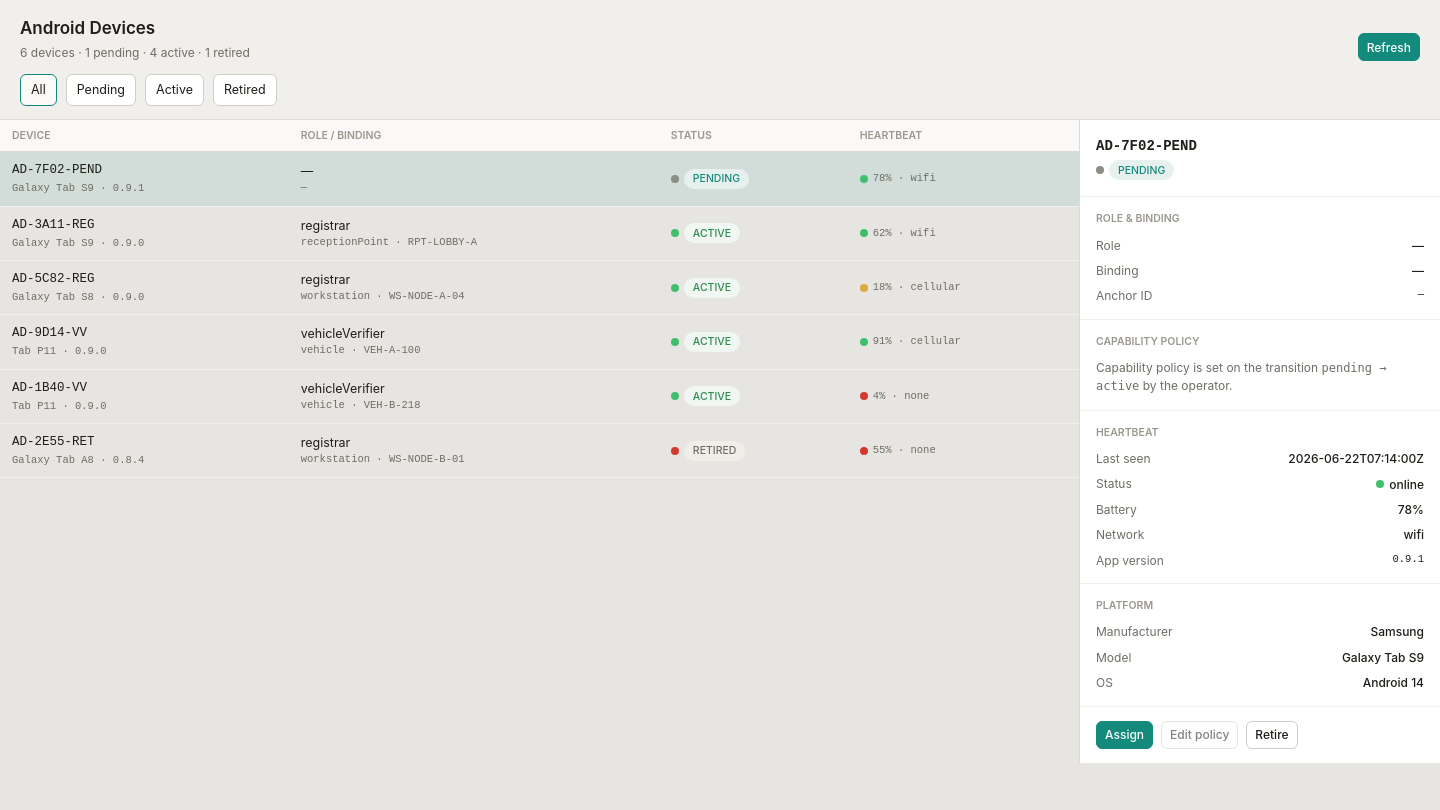
Test: AndroidDevicesScreen integration: assign + retire flows mutate snapshot › Assign on pending device transitions to active + binding + default empty policy
This screenshot has width=1440, height=810.
Expected: the button "AD-7F02-PEND Galaxy Tab S9 · 0.9.1" is shown, [12,161,277,197]
Click the button "Assign": coordinates (1125, 735) [1096,721,1153,749]
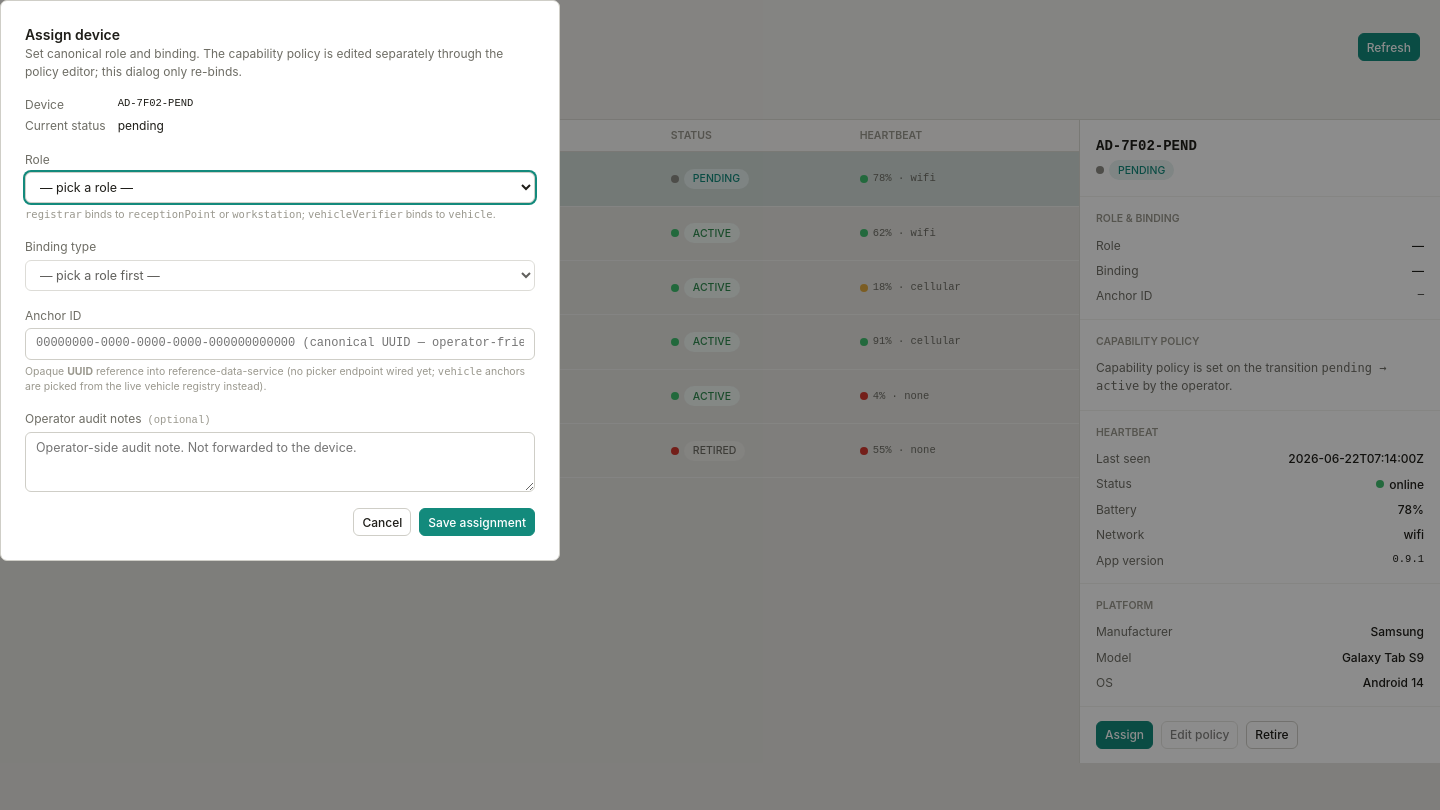
Fill the form.
Select "Registrar (registrar)" in the dropdown labelled "Role": coordinates (280, 188) [25,172,535,203]
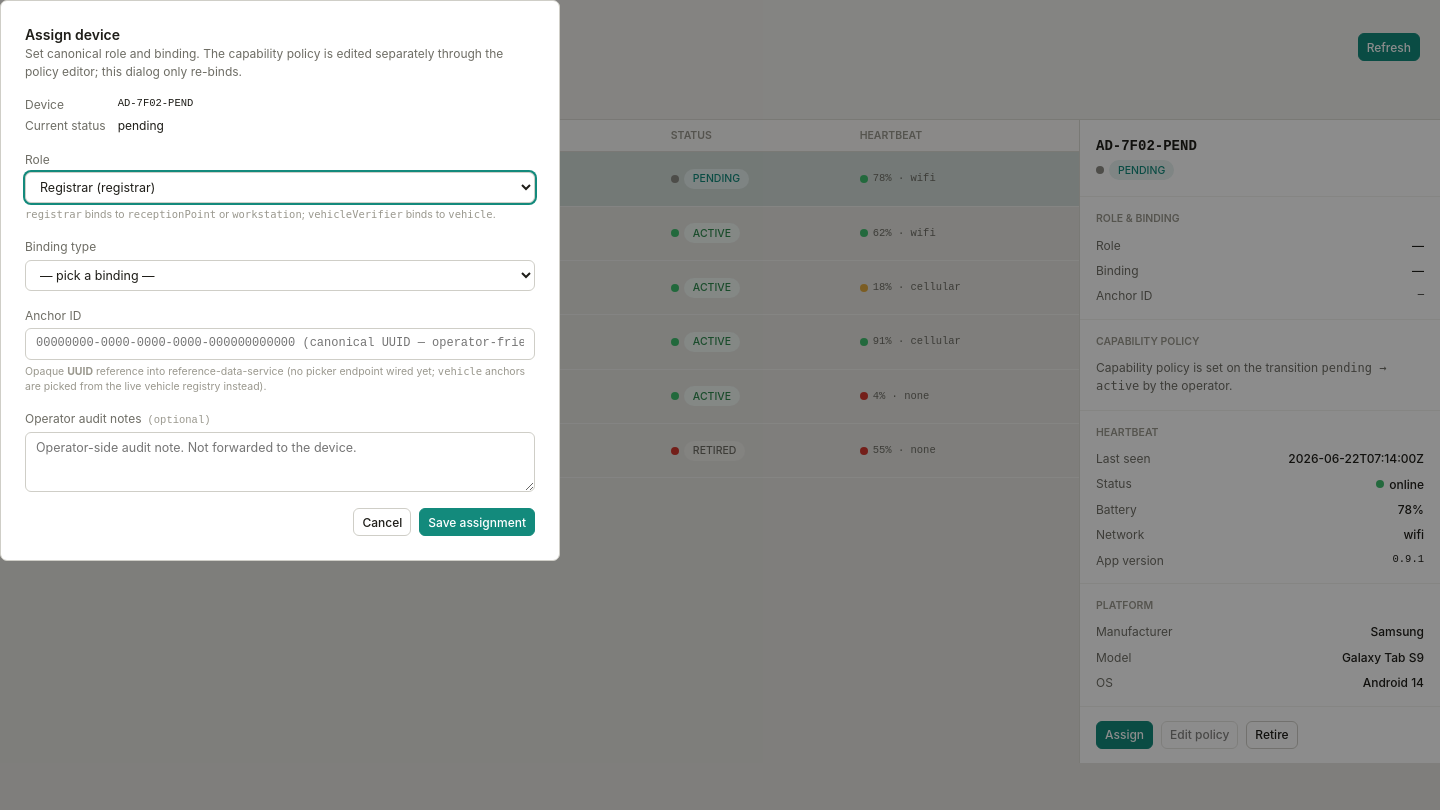
Select "Reception point (receptionPoint)" in the dropdown labelled "Binding type": coordinates (280, 275) [25,260,535,291]
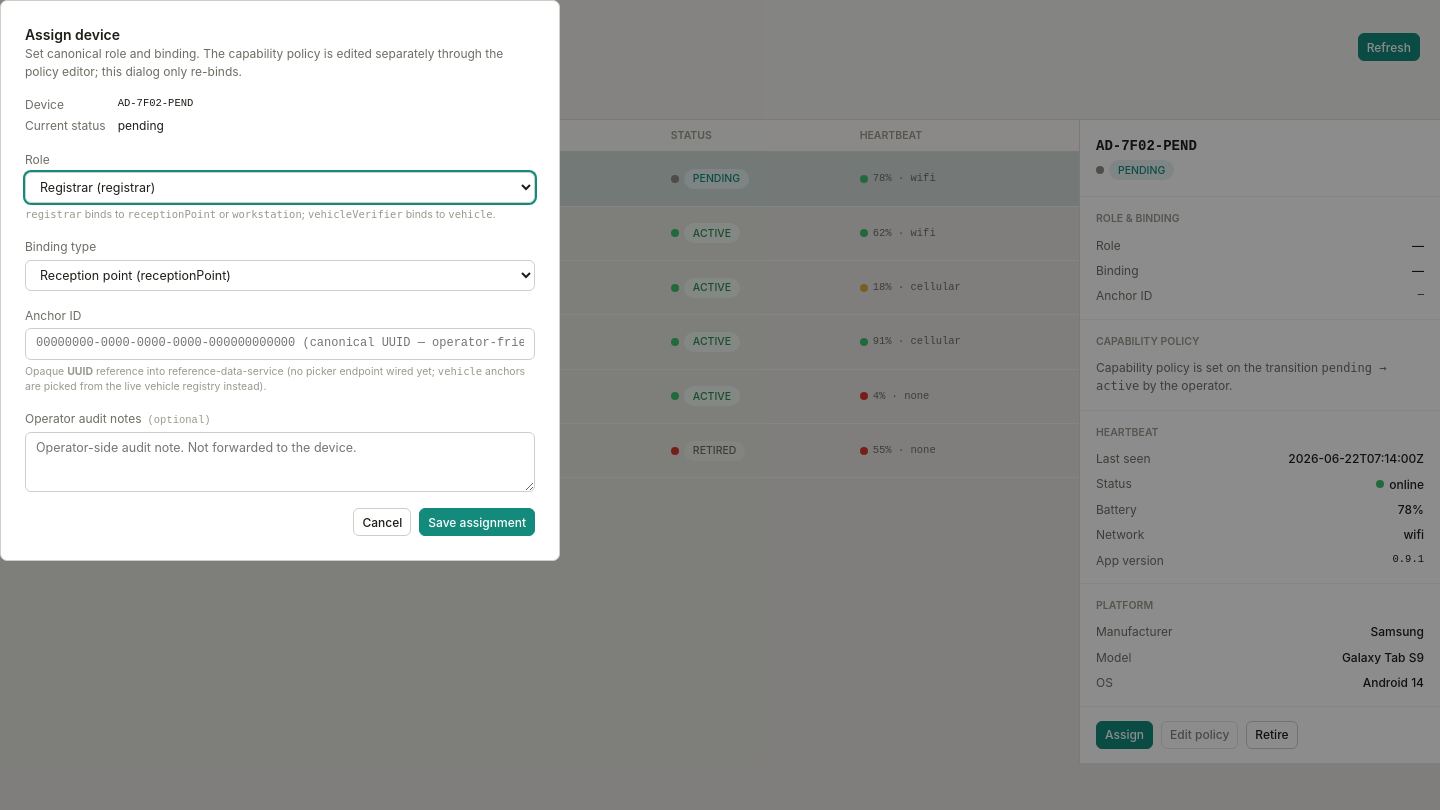
Replace the text in the field labelled "Anchor ID" with "44444444-4444-4444-8444-444444444444": coordinates (280, 344) [25,328,535,360]
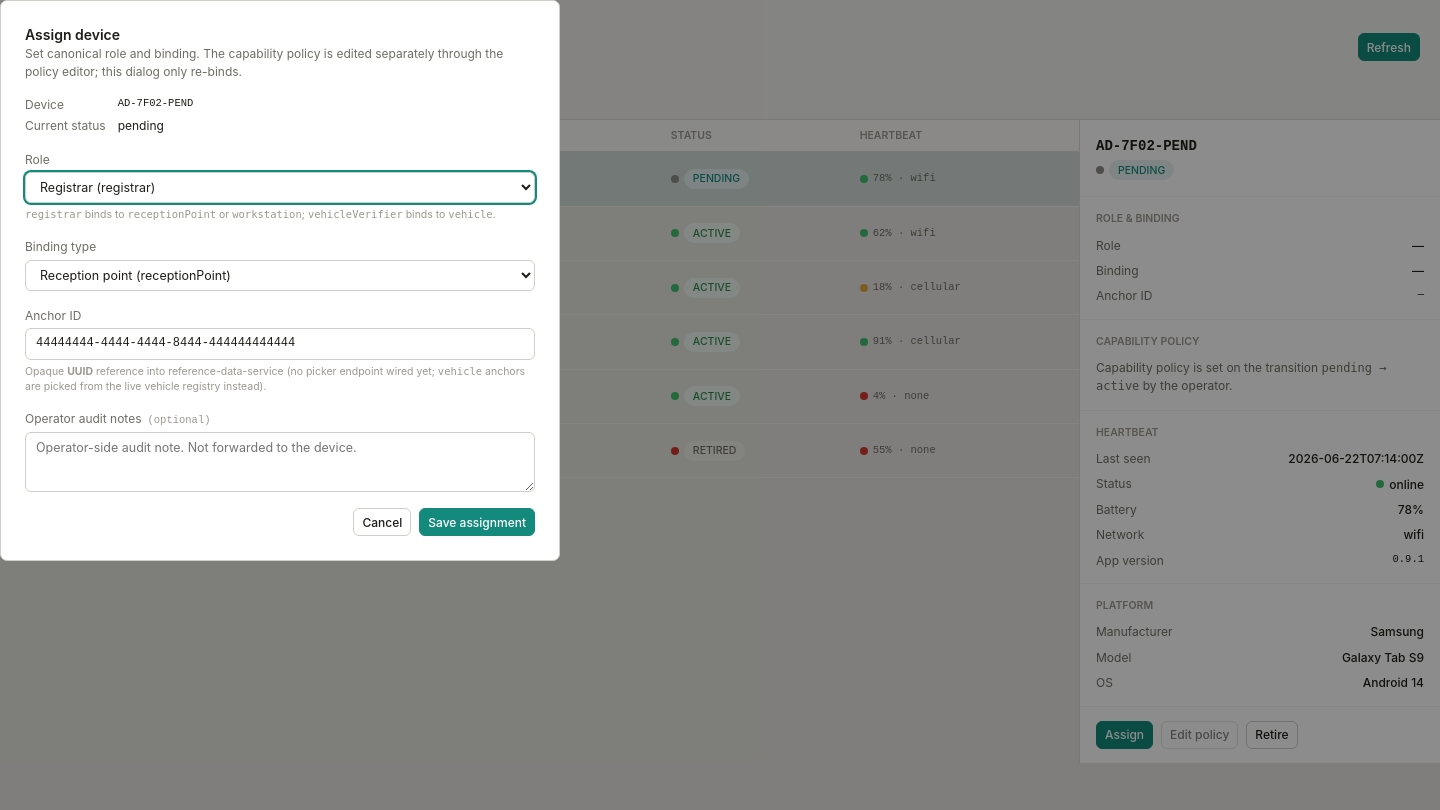
Click the button "Save assignment": coordinates (477, 522) [419,508,535,536]
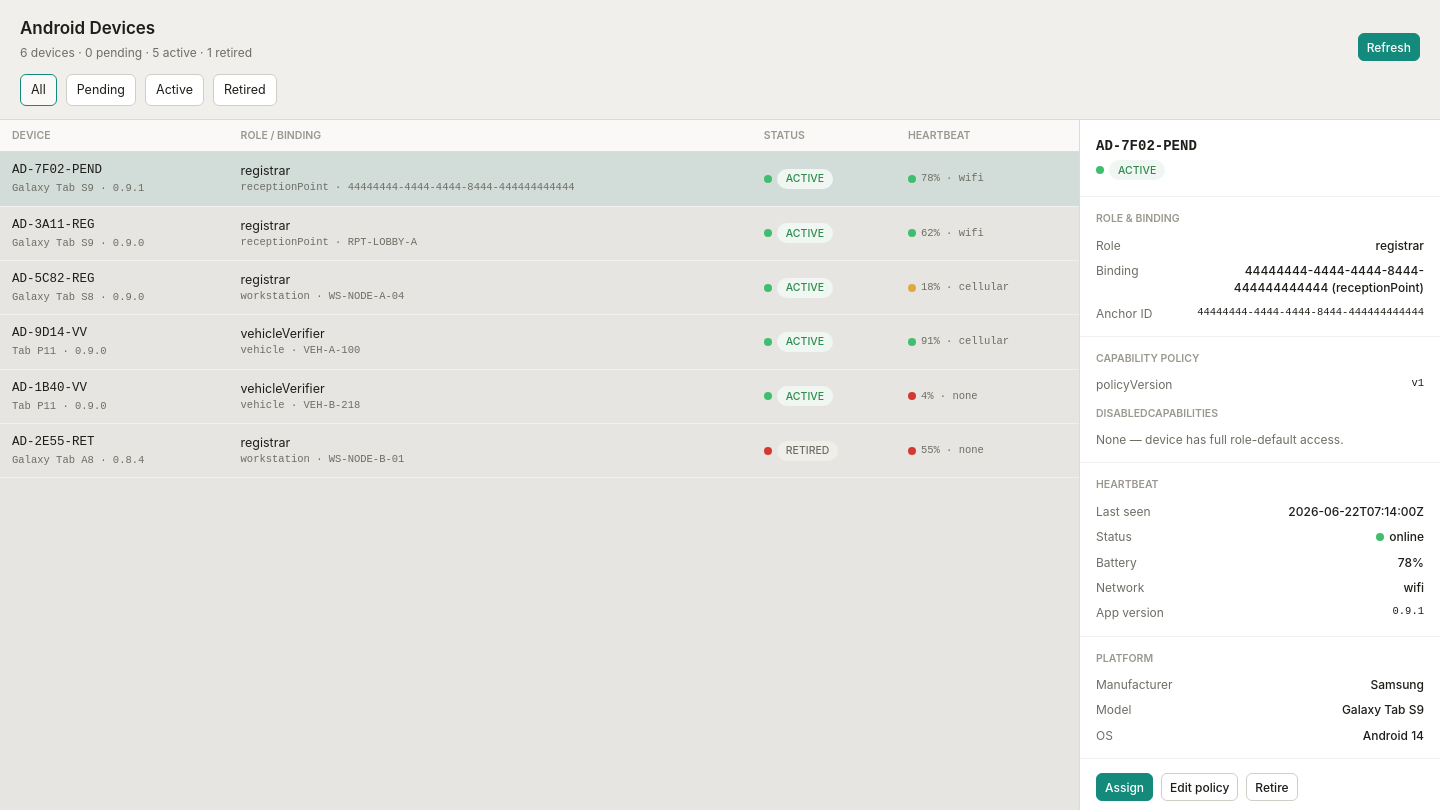
Now the 2nd text "active" is shown, box [1109,160,1165,180]
Now the text "v1" is shown, box [1411,376,1424,394]
